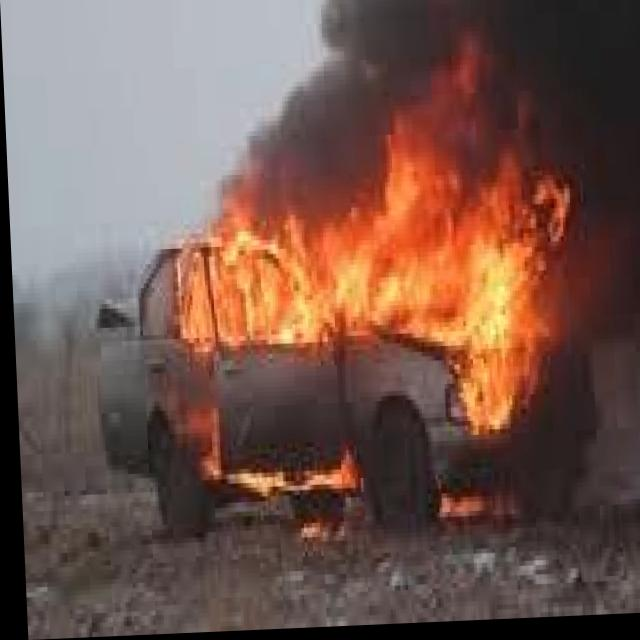fire: (176, 61, 566, 458)
